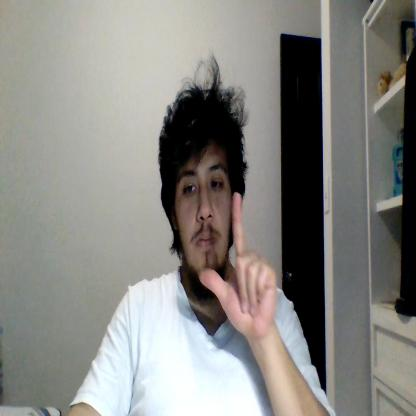L: (199, 191, 276, 333)
